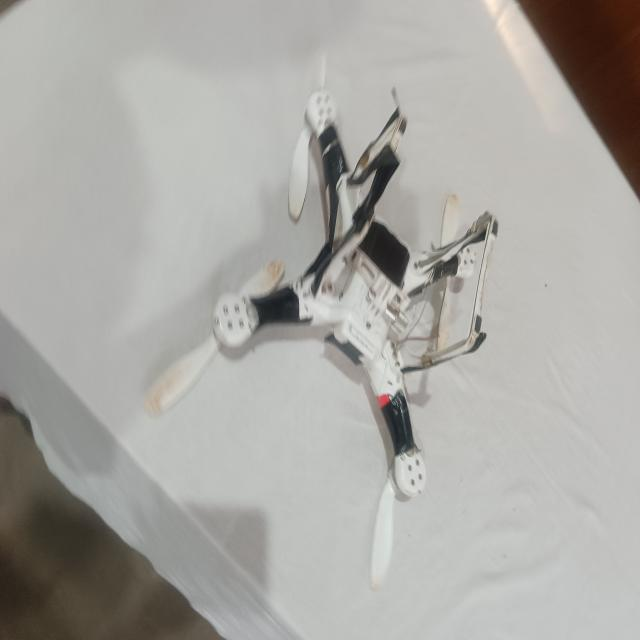drone: (129, 44, 523, 590)
